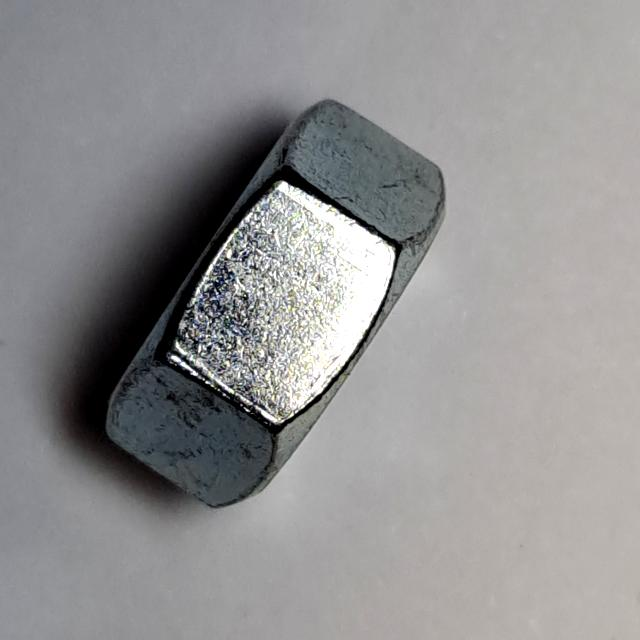Side_Excellent: (82, 85, 469, 528)
